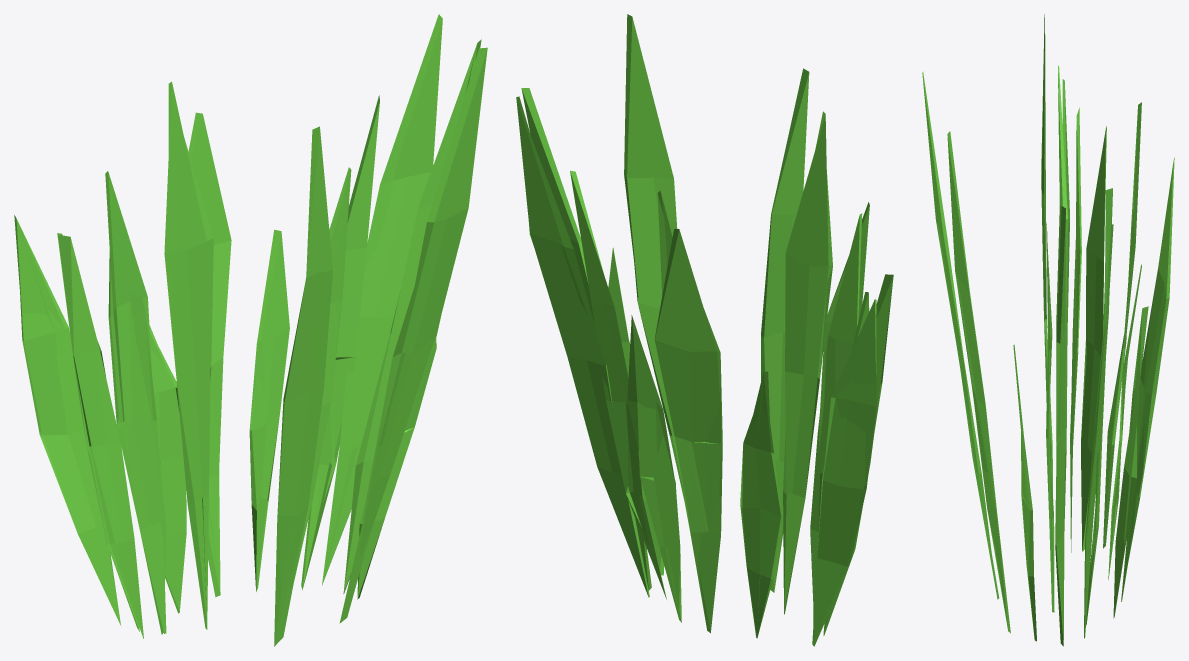
File: grass.glb
The picture shows the model from 3 angles, left to right: view 1: azimuth 30°, elevation 25°; view 2: azimuth 150°, elevation 25°; view 3: azimuth 270°, elevation 25°; orthographic projection. The views are drawn at different scales.
Parts seen in each view (by area): view 1: Plane; view 2: Plane; view 3: Plane.
Part boxes in pixels (x1=…): Plane: x1=14, y1=14, x2=487, y2=646; Plane: x1=516, y1=14, x2=893, y2=646; Plane: x1=922, y1=14, x2=1174, y2=646.
Size of the model in its own units: 0.0483 by 0.0617 by 0.0255.
